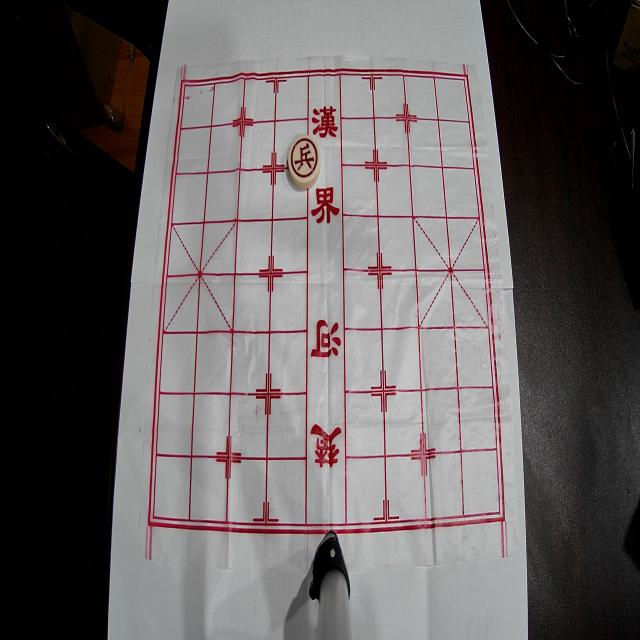red-soldier: (288, 135, 321, 189)
